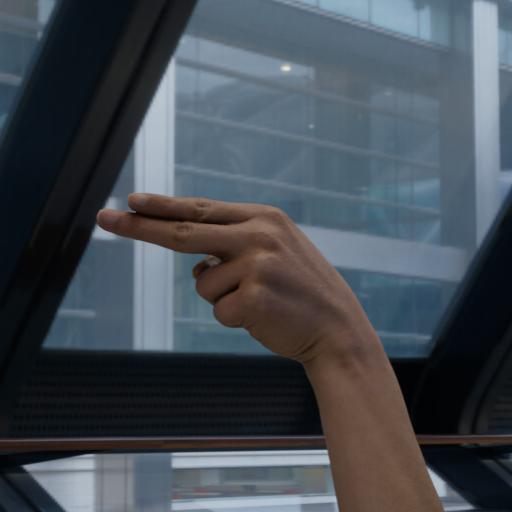H: (90, 190, 376, 371)
